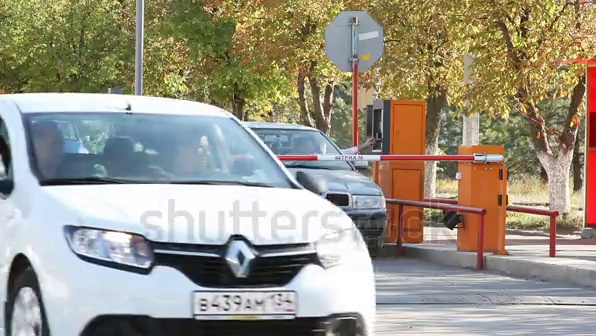licenseplate: (190, 288, 299, 315)
